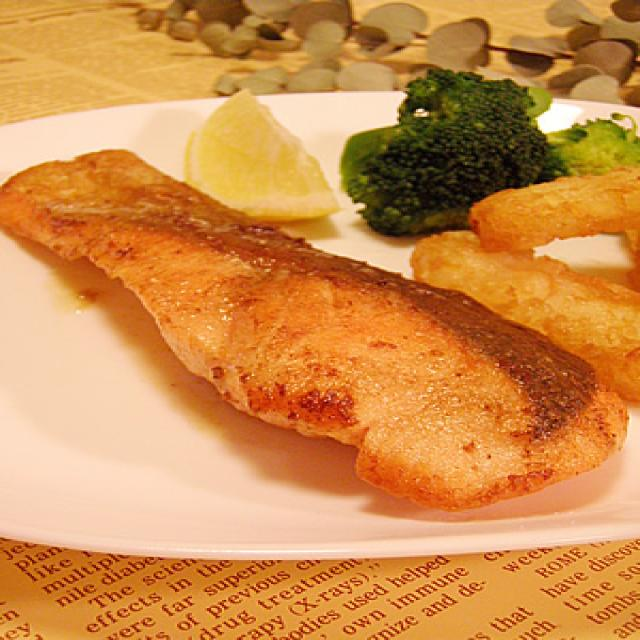熟制海鲜: (0, 118, 623, 544)
